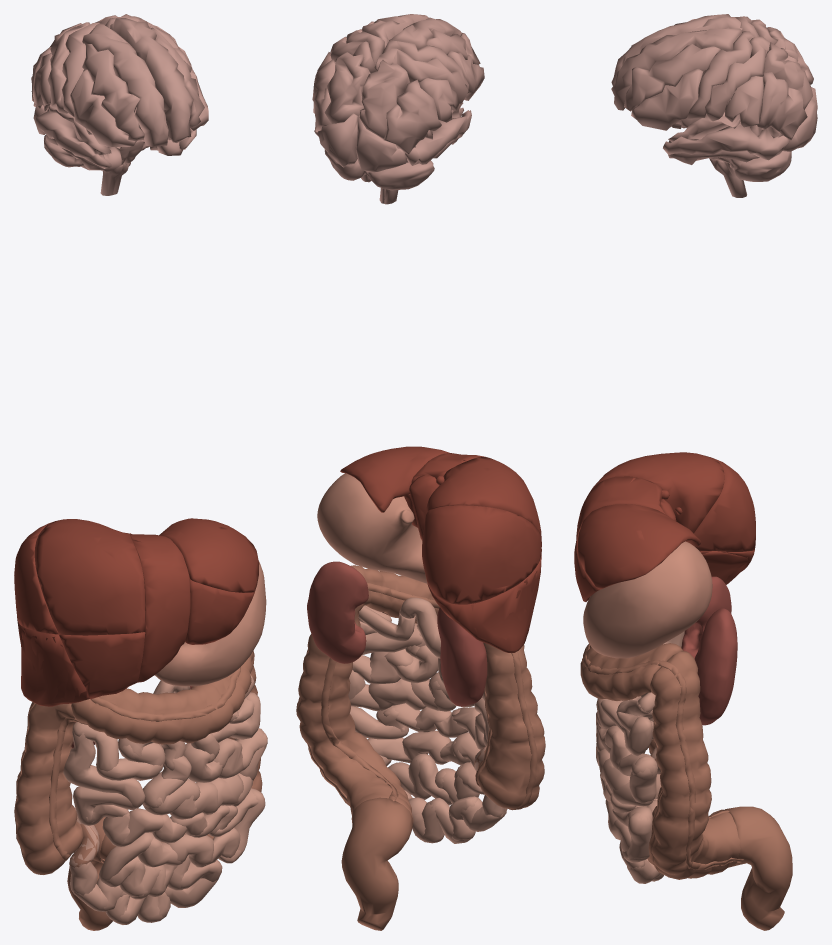
The model's file is organos-regiones.glb.
3 renders of one model, left to right at view 1: azimuth 30°, elevation 25°; view 2: azimuth 150°, elevation 25°; view 3: azimuth 270°, elevation 25°, orthographic. The views are drawn at different scales.
Visible parts, largest first — view 1: liver__derecha, small_intestine__ileon, brain__hemisferio_derecho, small_intestine__yeyuno, liver__izquierda, large_intestine__transverso, large_intestine__ascendente, brain__hemisferio_izquierdo, stomach__cuerpo, large_intestine__base, large_intestine__ciego, stomach__pilorica (+3 smaller); view 2: liver__derecha, brain__hemisferio_derecho, small_intestine__ileon, small_intestine__yeyuno, brain__hemisferio_izquierdo, large_intestine__recto, large_intestine__ascendente, kidneys__izquierdo, stomach__cuerpo, large_intestine__descendente, liver__izquierda, large_intestine__base (+8 smaller); view 3: brain__hemisferio_izquierdo, liver__izquierda, liver__derecha, large_intestine__descendente, stomach__cuerpo, small_intestine__yeyuno, large_intestine__recto, kidneys__izquierdo, small_intestine__ileon, large_intestine__transverso, brain__hemisferio_derecho, large_intestine__base (+5 smaller).
Part boxes in pixels (left/top/right/bottom): liver__derecha: left=14, top=519, right=145, bottom=706; small_intestine__ileon: left=69, top=786, right=265, bottom=924; brain__hemisferio_derecho: left=31, top=22, right=168, bottom=172; small_intestine__yeyuno: left=63, top=674, right=267, bottom=819; liver__izquierda: left=130, top=518, right=259, bottom=682; large_intestine__transverso: left=71, top=652, right=253, bottom=744; large_intestine__ascendente: left=14, top=703, right=81, bottom=845; brain__hemisferio_izquierdo: left=95, top=14, right=208, bottom=155; stomach__cuerpo: left=191, top=561, right=266, bottom=685; large_intestine__base: left=14, top=667, right=240, bottom=863; large_intestine__ciego: left=16, top=823, right=99, bottom=874; stomach__pilorica: left=155, top=642, right=215, bottom=686; liver__derecha: left=422, top=457, right=541, bottom=652; brain__hemisferio_derecho: left=356, top=17, right=484, bottom=172; small_intestine__ileon: left=350, top=697, right=507, bottom=843; small_intestine__yeyuno: left=348, top=605, right=484, bottom=711; brain__hemisferio_izquierdo: left=312, top=14, right=428, bottom=167; large_intestine__recto: left=341, top=797, right=412, bottom=930; large_intestine__ascendente: left=479, top=642, right=545, bottom=784; kidneys__izquierdo: left=307, top=561, right=368, bottom=663; stomach__cuerpo: left=317, top=500, right=426, bottom=583; large_intestine__descendente: left=296, top=603, right=368, bottom=783; liver__izquierda: left=340, top=446, right=485, bottom=527; large_intestine__base: left=298, top=583, right=537, bottom=810; brain__hemisferio_izquierdo: left=611, top=28, right=817, bottom=164; liver__izquierda: left=574, top=475, right=700, bottom=601; liver__derecha: left=588, top=452, right=755, bottom=584; large_intestine__descendente: left=649, top=651, right=711, bottom=874; stomach__cuerpo: left=583, top=565, right=712, bottom=658; small_intestine__yeyuno: left=596, top=692, right=657, bottom=806; large_intestine__recto: left=725, top=806, right=792, bottom=930; kidneys__izquierdo: left=694, top=608, right=737, bottom=725; small_intestine__ileon: left=600, top=710, right=663, bottom=883; large_intestine__transverso: left=580, top=643, right=683, bottom=700; brain__hemisferio_derecho: left=611, top=14, right=817, bottom=128; large_intestine__base: left=582, top=644, right=743, bottom=872.
Size of the model in its own units: 0.2441 by 0.8738 by 0.2128.
